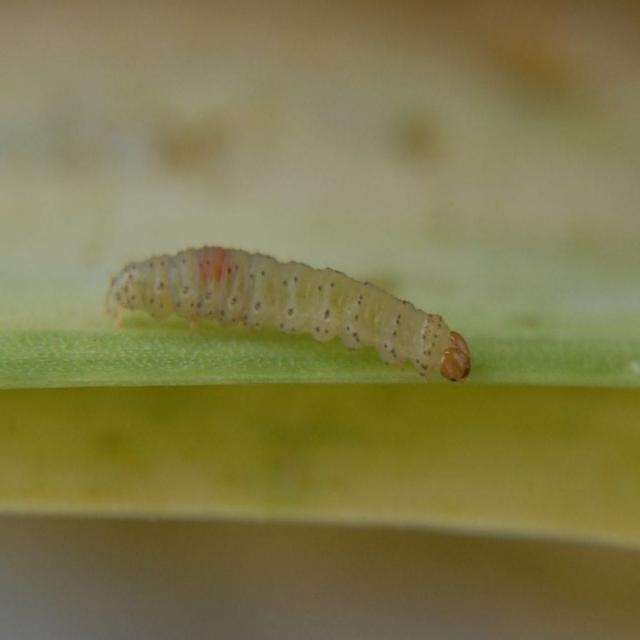cornborer-Larva-: (100, 232, 493, 388)
